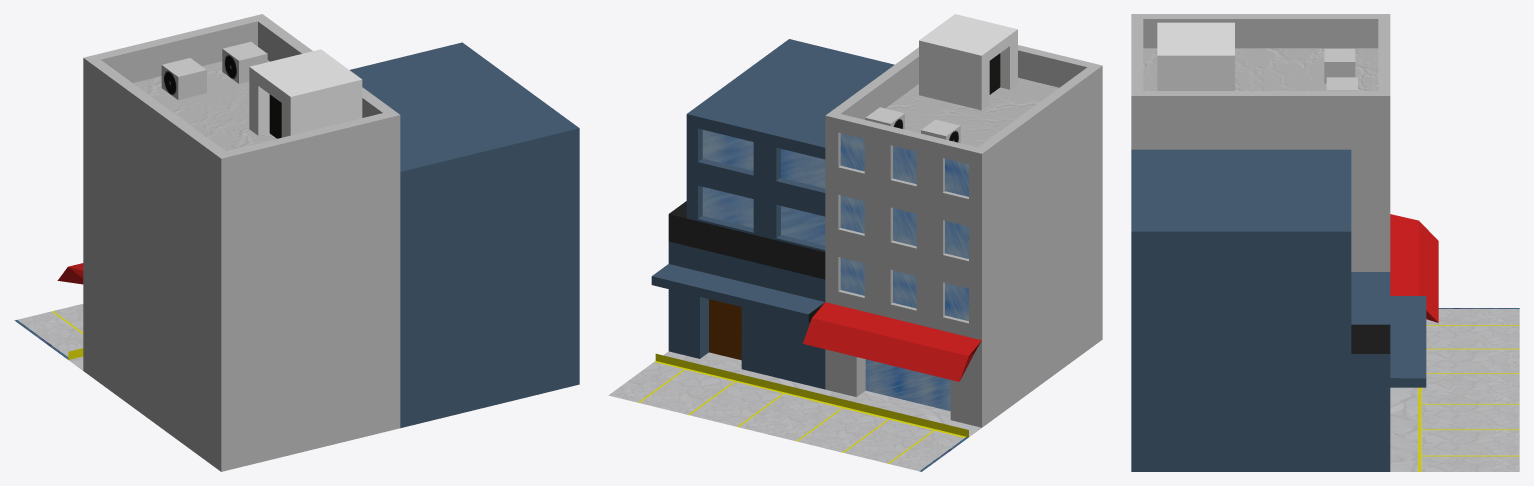
File: Predio6.fbx
The picture shows the model from 3 angles, left to right: view 1: azimuth 30°, elevation 25°; view 2: azimuth 150°, elevation 25°; view 3: azimuth 270°, elevation 25°; orthographic projection. The views are drawn at different scales.
Visible parts, largest first — view 1: Predio4; view 2: Predio4; view 3: Predio4.
Boxes of the visible parts, x1=… form: Predio4: x1=14, y1=14, x2=579, y2=471; Predio4: x1=608, y1=14, x2=1102, y2=471; Predio4: x1=1131, y1=14, x2=1519, y2=471.
Bounding box in the file's own units: 1200 × 1200 × 1102.
1 material, 1 textured.
